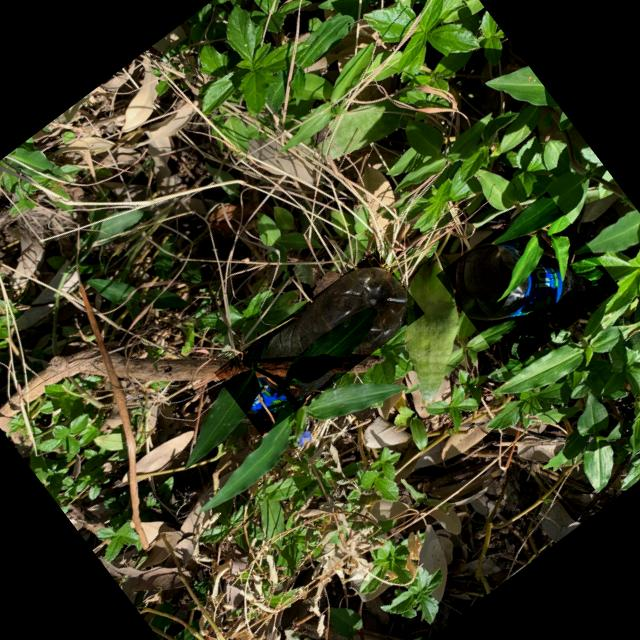Clear plastic bottle: (246, 267, 407, 420), (456, 241, 618, 322)
